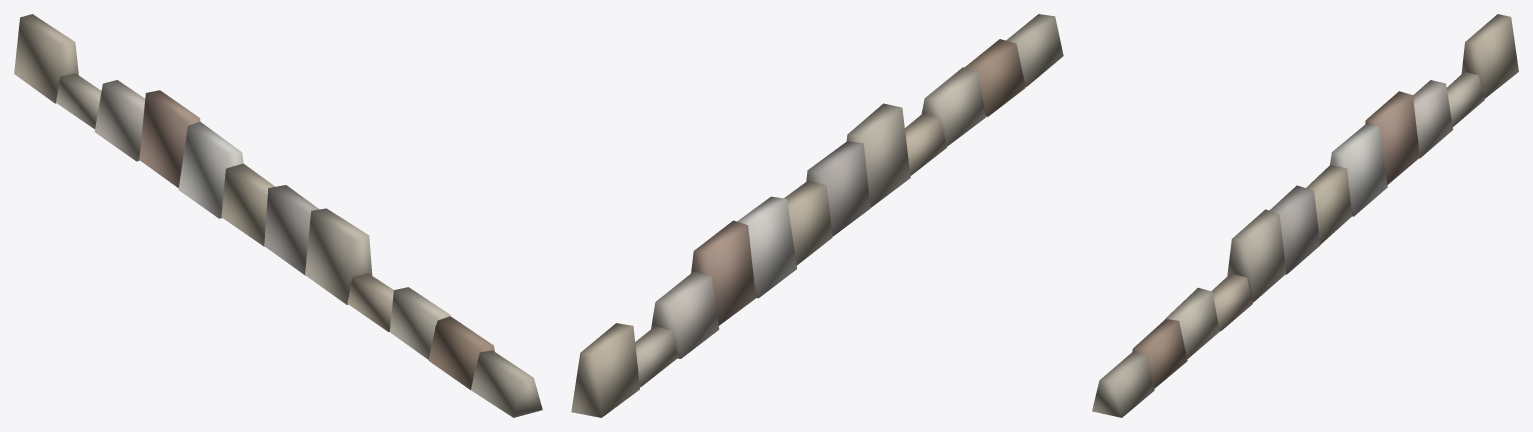
The model's file is farm_14_18_far.glb.
The picture shows the model from 3 angles, left to right: view 1: azimuth 30°, elevation 25°; view 2: azimuth 150°, elevation 25°; view 3: azimuth 330°, elevation 25°; orthographic projection. The views are drawn at different scales.
Visible parts, largest first — view 1: geometry_0; view 2: geometry_0; view 3: geometry_0.
Boxes of the visible parts, x1,y1,x2,y2 form: geometry_0: [14, 14, 542, 417]; geometry_0: [571, 14, 1063, 417]; geometry_0: [1092, 14, 1518, 417].
Size of the model in its own units: 1.68 by 1.79 by 19.13.
